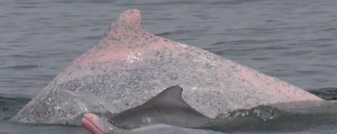fin: (9, 2, 326, 114)
